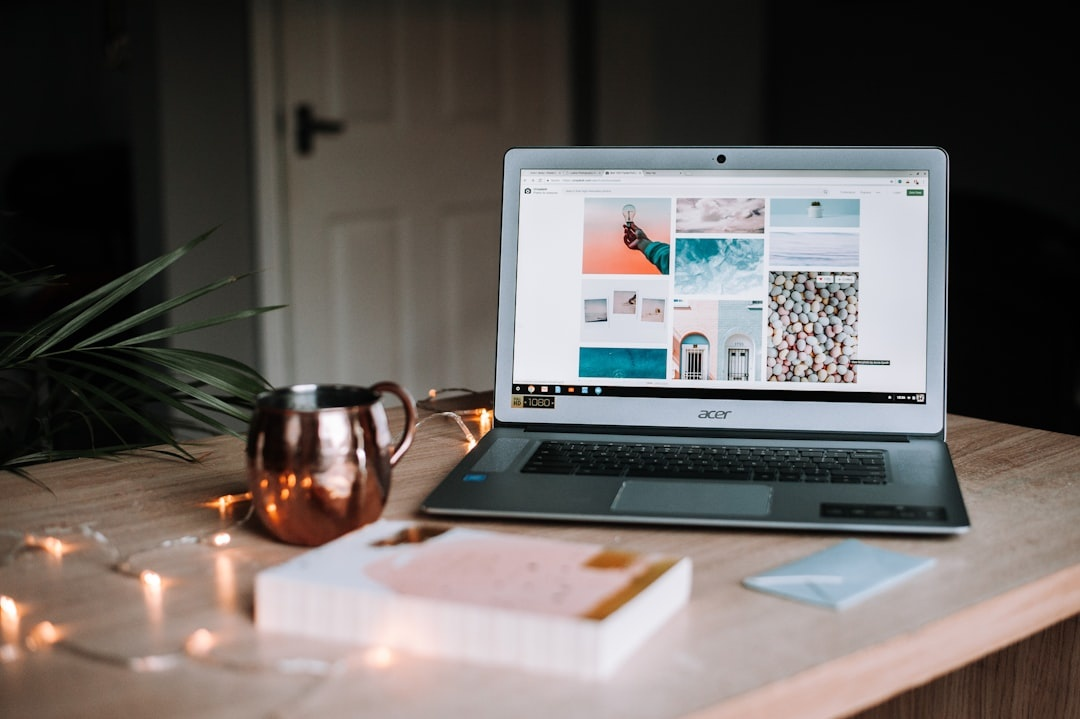laptop: (412, 106, 1005, 553)
